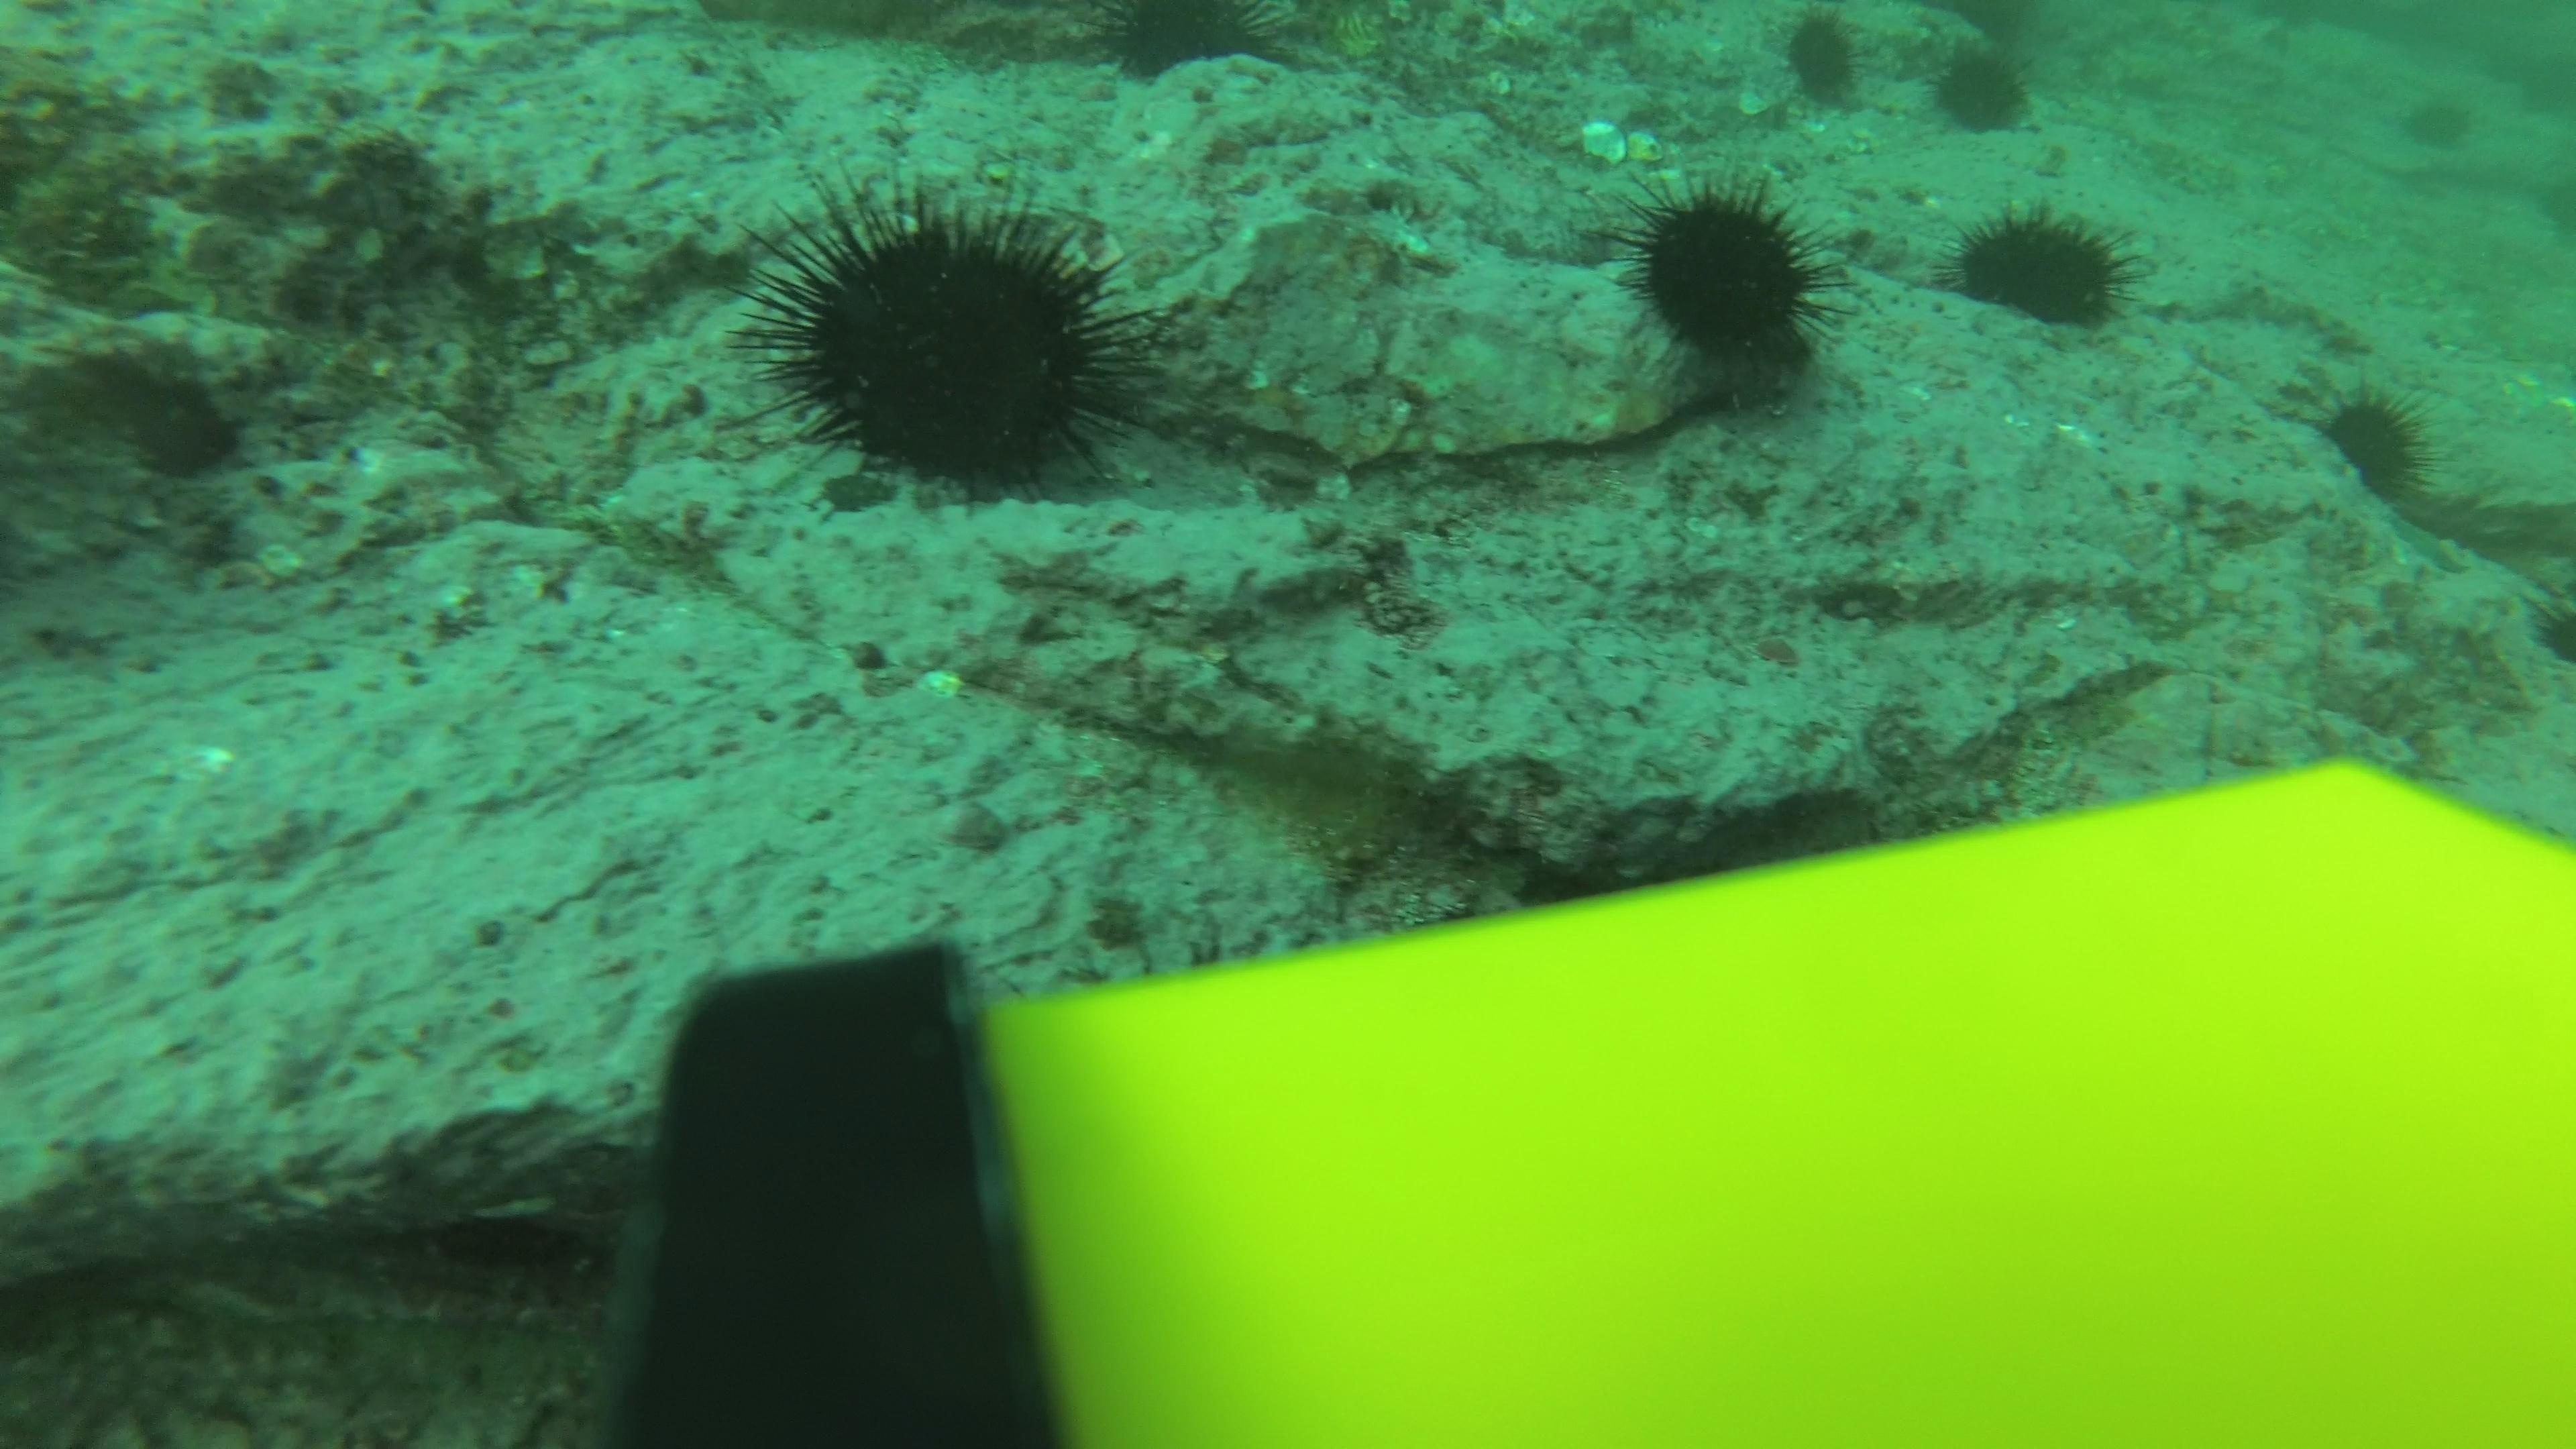echinus: (738, 177, 1161, 501), (1612, 173, 1842, 380), (1943, 198, 2141, 334), (1086, 0, 1281, 88), (2309, 380, 2438, 508), (1766, 7, 1877, 117), (1921, 39, 2040, 138), (2502, 568, 2576, 699), (2392, 83, 2482, 156)
